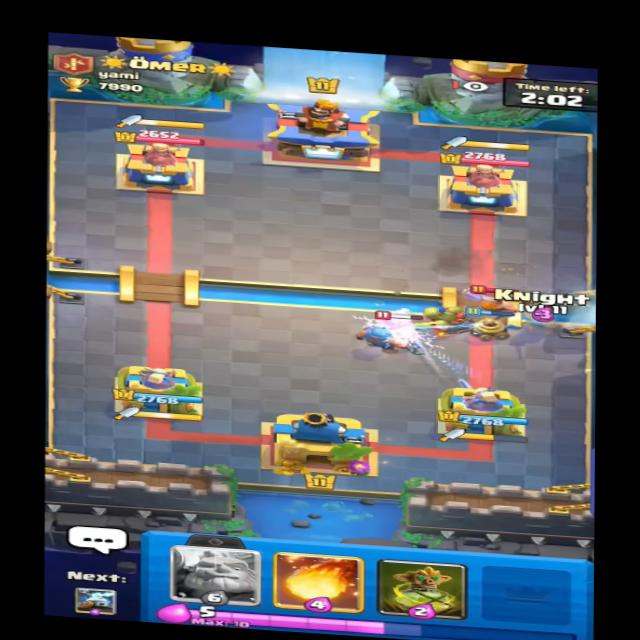lumberjack: (458, 276, 521, 316)
